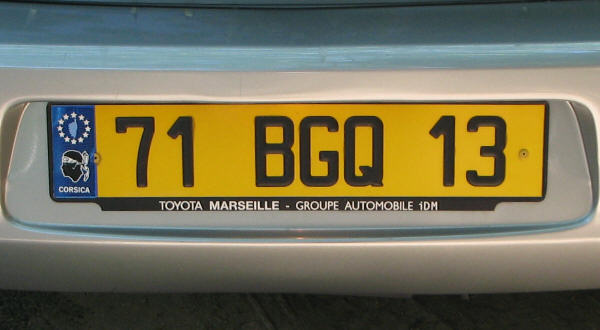license_plate: (45, 100, 549, 204)
